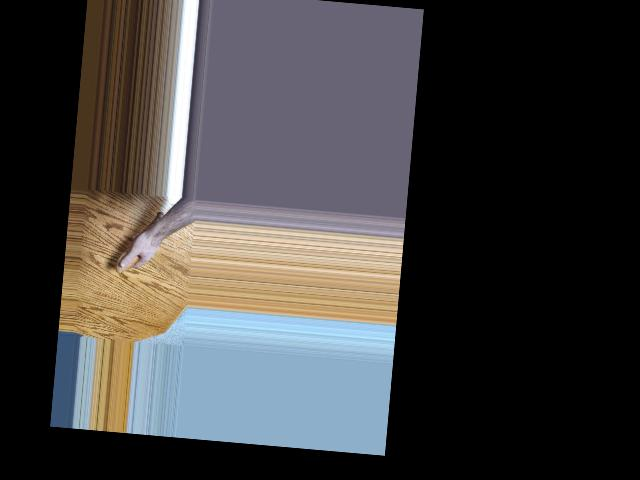sweet_potato: (115, 206, 167, 277)
